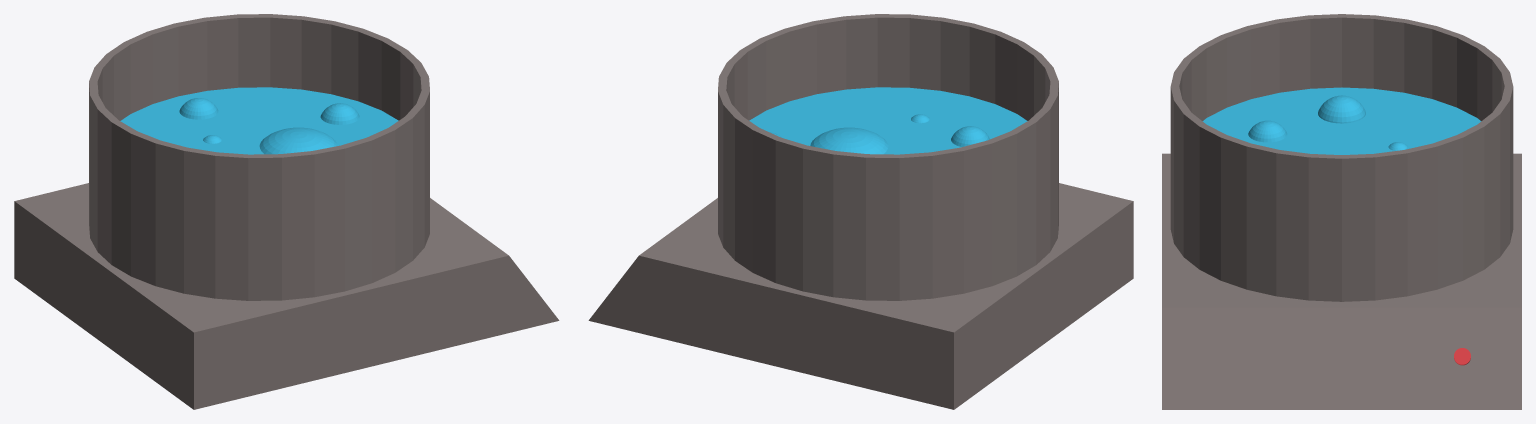
Rendered from pot_boiling 1.fbx.
The picture shows the model from 3 angles, left to right: view 1: azimuth 30°, elevation 25°; view 2: azimuth 150°, elevation 25°; view 3: azimuth 270°, elevation 25°; orthographic projection.
Parts seen in each view (by area): view 1: Cylinder, Cube, water, Sphere.001, Sphere.002, Sphere; view 2: Cylinder, Cube, water, Sphere.001, Sphere.005; view 3: Cylinder, Cube, water, Sphere.003, Sphere.005.
Boxes of the visible parts, box(x1,y1,x2,y2) form: Cylinder: box(89, 14, 429, 300); Cube: box(14, 183, 559, 409); water: box(120, 87, 398, 154); Sphere.001: box(259, 127, 337, 154); Sphere.002: box(179, 98, 218, 119); Sphere: box(320, 103, 359, 124); Cylinder: box(718, 14, 1058, 300); Cube: box(588, 183, 1133, 409); water: box(749, 87, 1027, 154); Sphere.001: box(810, 127, 888, 154); Sphere.005: box(951, 126, 989, 146); Cylinder: box(1170, 14, 1513, 301); Cube: box(1162, 153, 1521, 409); water: box(1202, 87, 1481, 154); Sphere.003: box(1318, 95, 1365, 123); Sphere.005: box(1248, 120, 1287, 142).
Bounding box in the file's own units: 494 × 284 × 420.
